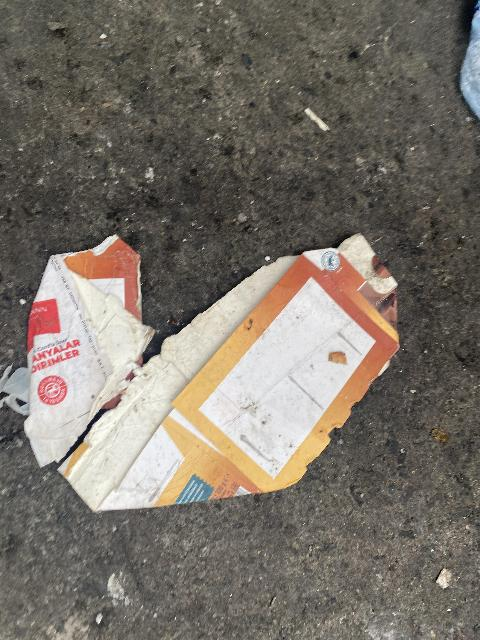Kagit: (53, 231, 402, 517), (24, 235, 159, 471)
